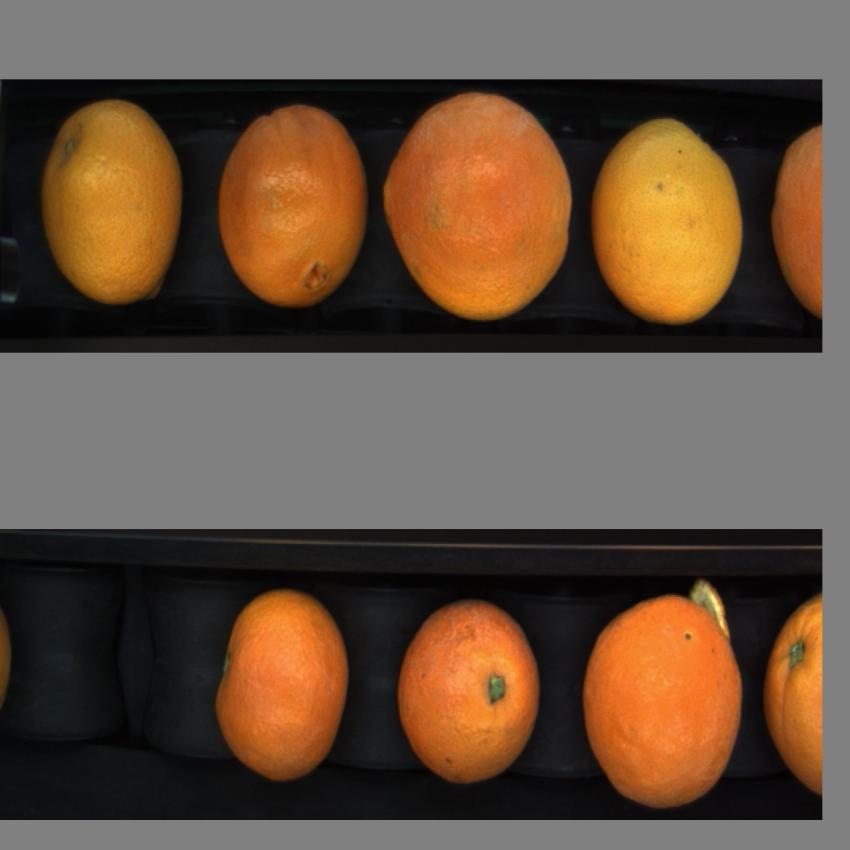Buen estado: (380, 87, 580, 322), (209, 98, 376, 326), (37, 86, 187, 324), (590, 111, 746, 337), (394, 588, 554, 788), (211, 580, 357, 782), (763, 585, 823, 801), (769, 116, 822, 337)
Mal estado: (580, 574, 751, 815)
